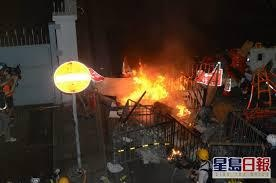fire: (117, 60, 193, 117), (165, 145, 182, 161)
